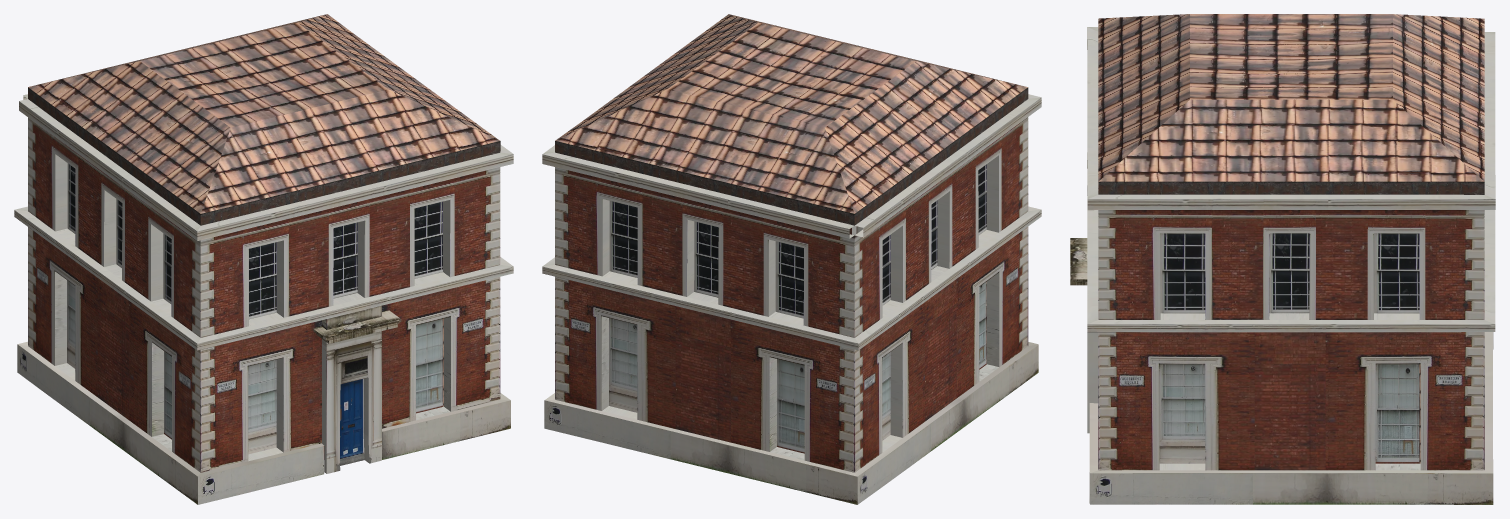
3 views of the same model, side by side, from view 1: azimuth 30°, elevation 25°; view 2: azimuth 150°, elevation 25°; view 3: azimuth 270°, elevation 25° (orthographic). The views are drawn at different scales.
Parts seen in each view (by area): view 1: Building_Apartment_13; view 2: Building_Apartment_13; view 3: Building_Apartment_13.
Part boxes in pixels (x1,y1,x2,y2): Building_Apartment_13: (14, 14, 513, 504); Building_Apartment_13: (542, 14, 1041, 504); Building_Apartment_13: (1070, 14, 1495, 504).
Bounding box in the file's own units: 625 × 614 × 652.
Materials: 1 (1 with a texture image).
